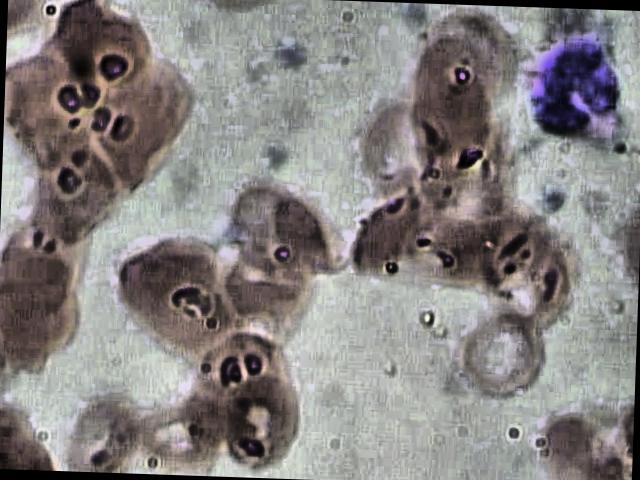Platelets: (268, 33, 316, 75)
RBC: (222, 176, 344, 284), (111, 232, 232, 339), (27, 132, 135, 238), (3, 47, 112, 152), (84, 54, 193, 158), (40, 0, 149, 95), (408, 26, 496, 135), (458, 305, 550, 404), (214, 374, 306, 472), (0, 218, 87, 314), (48, 389, 144, 474), (132, 392, 228, 477), (532, 405, 628, 480)
WBC: (513, 17, 640, 165)
